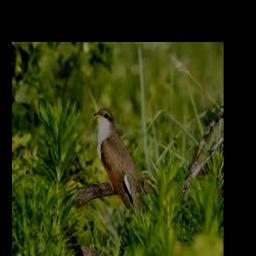Cuckoo: (93, 108, 142, 218)
